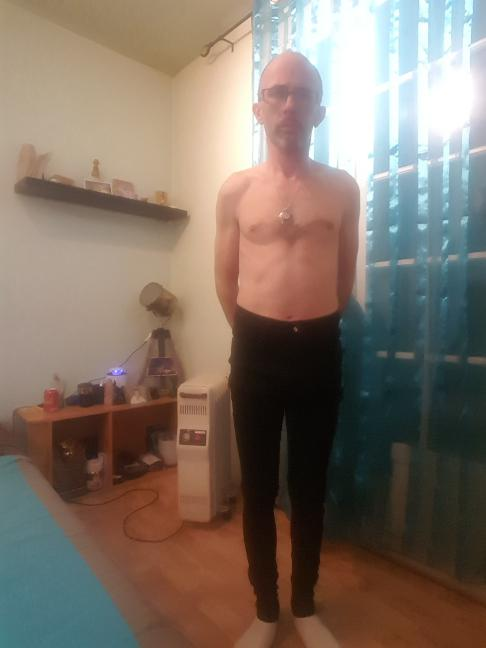jeans: (226, 308, 343, 618)
